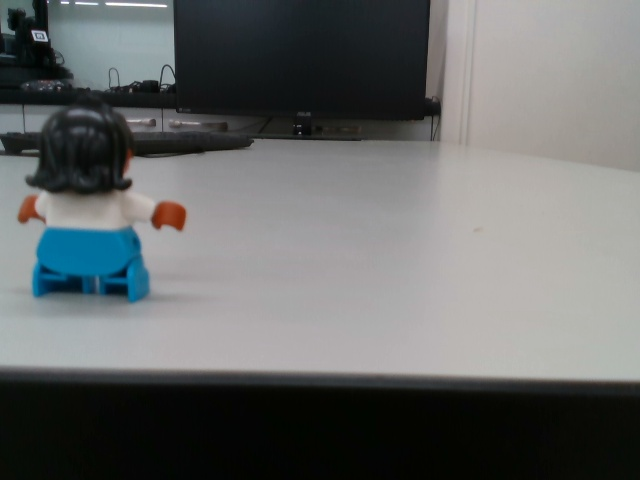people: (16, 102, 190, 305)
